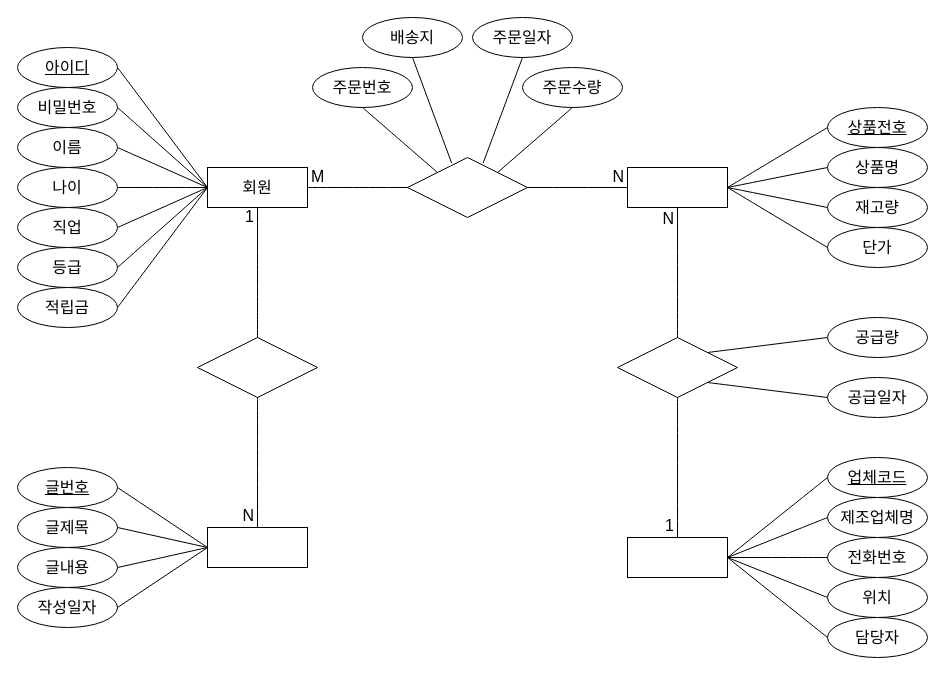
Some shapes in this 945 by 675 pixel diagram are drawn without their labels. Here are the shapes that lost their labels. From the top down, the box of each, then its label:
(406, 156, 528, 218): 주문
(626, 166, 728, 208): 상품
(196, 336, 318, 398): 작성
(616, 336, 738, 398): 공급
(206, 526, 308, 568): 게시글
(626, 536, 728, 578): 제조업체
